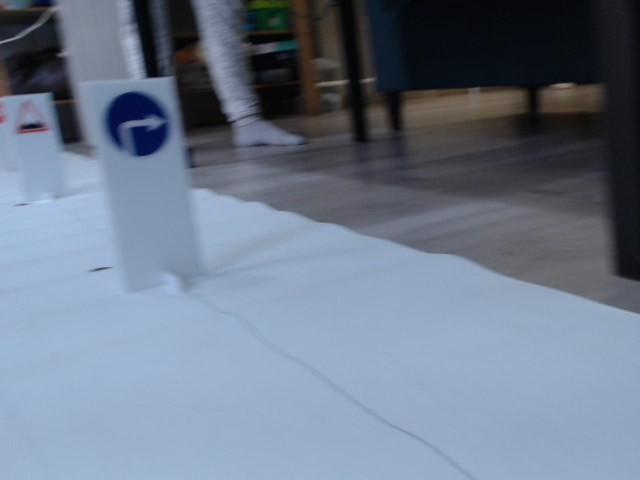Nerov: (12, 101, 52, 134)
Right: (101, 90, 170, 159)
